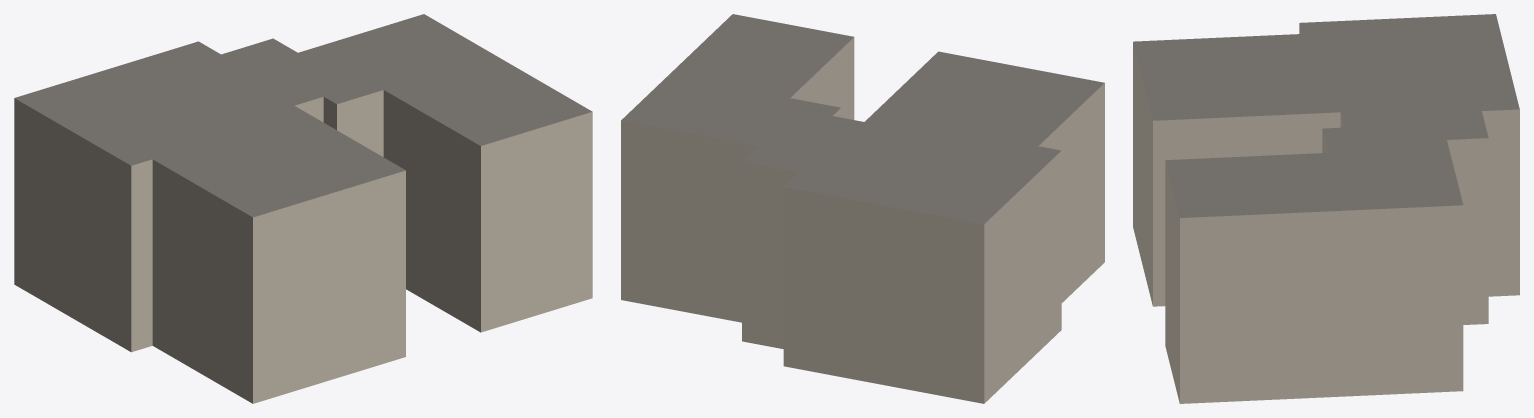
The picture shows the model from 3 angles, left to right: view 1: azimuth 30°, elevation 25°; view 2: azimuth 150°, elevation 25°; view 3: azimuth 270°, elevation 25°; orthographic projection. The views are drawn at different scales.
Visible parts, largest first — view 1: HP-w369317453; view 2: HP-w369317453; view 3: HP-w369317453.
Boxes of the visible parts, <box> form: HP-w369317453: <box>14,14,592,403</box>; HP-w369317453: <box>621,14,1104,403</box>; HP-w369317453: <box>1133,14,1519,403</box>.
Size of the model in its own units: 42.4 by 18 by 33.95.
